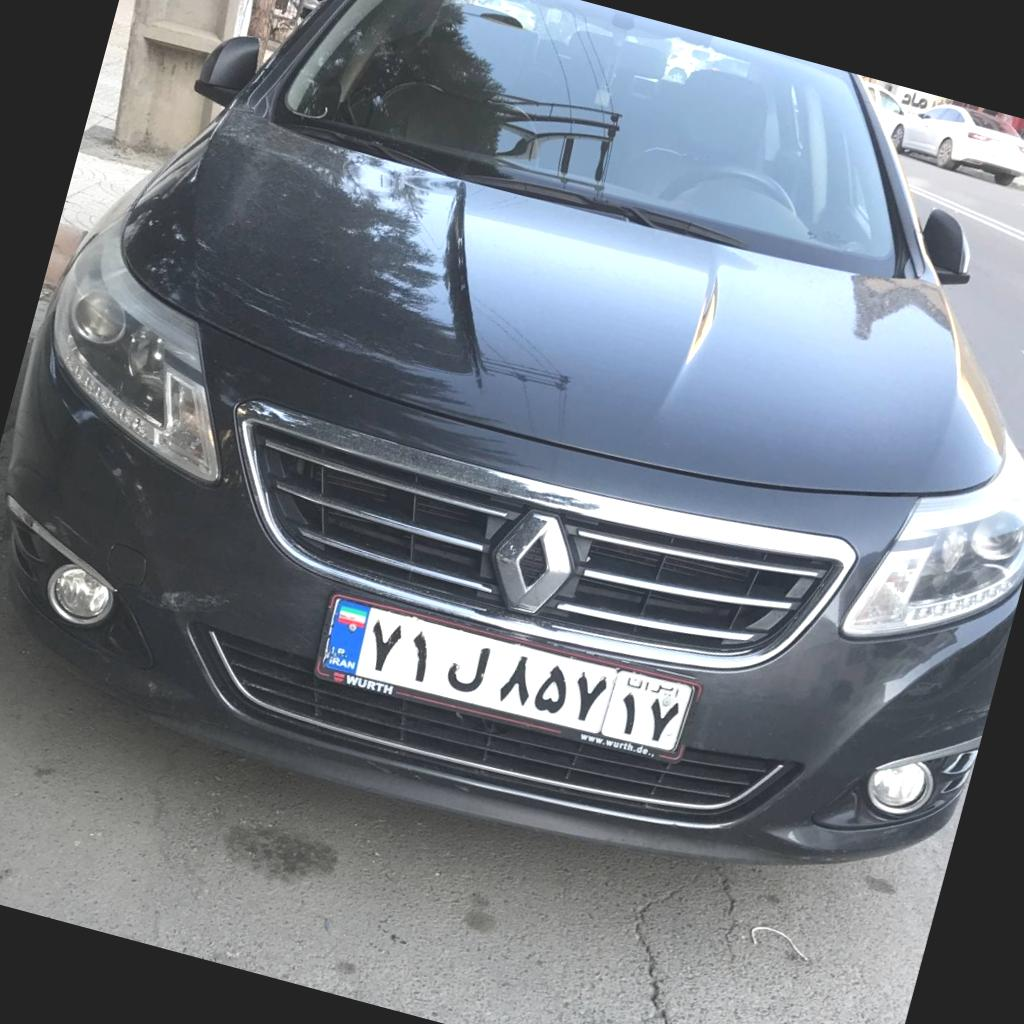Plates: (325, 598, 694, 751)
